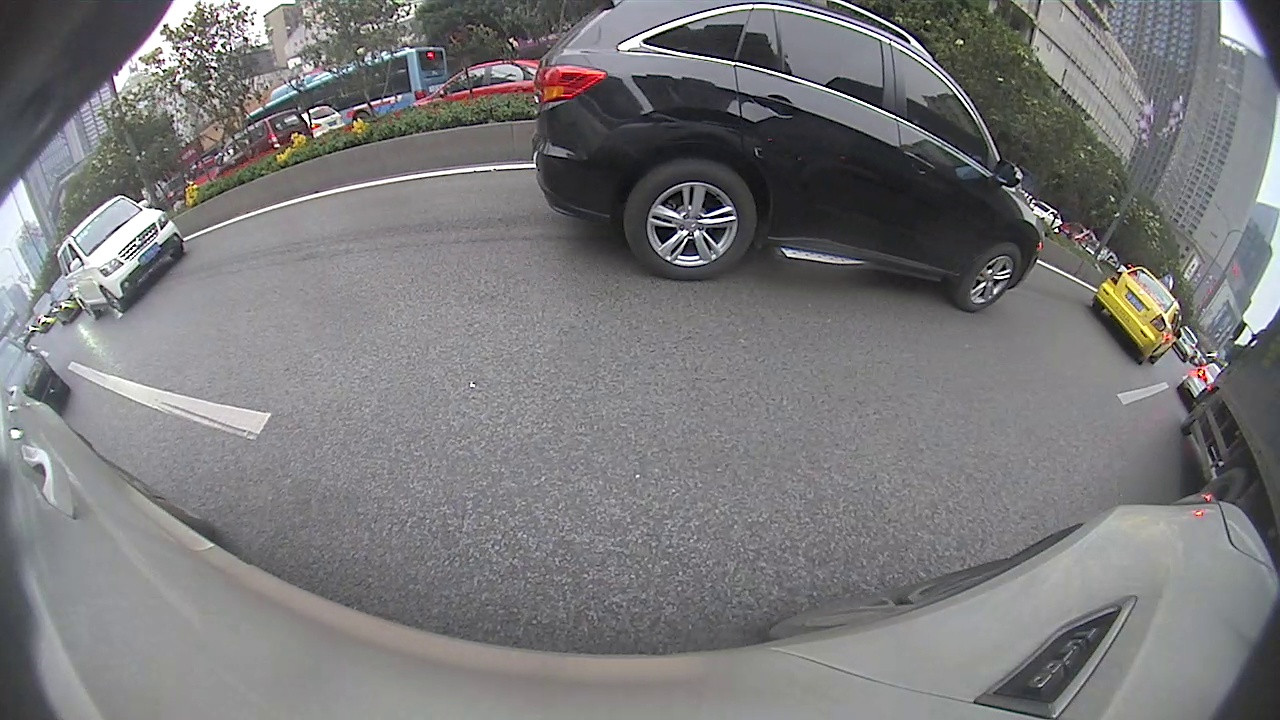car: (534, 3, 1044, 314), (57, 196, 189, 320), (1094, 262, 1181, 366)
front: (960, 242, 1023, 313), (99, 285, 127, 314)
rear: (624, 158, 757, 281)
